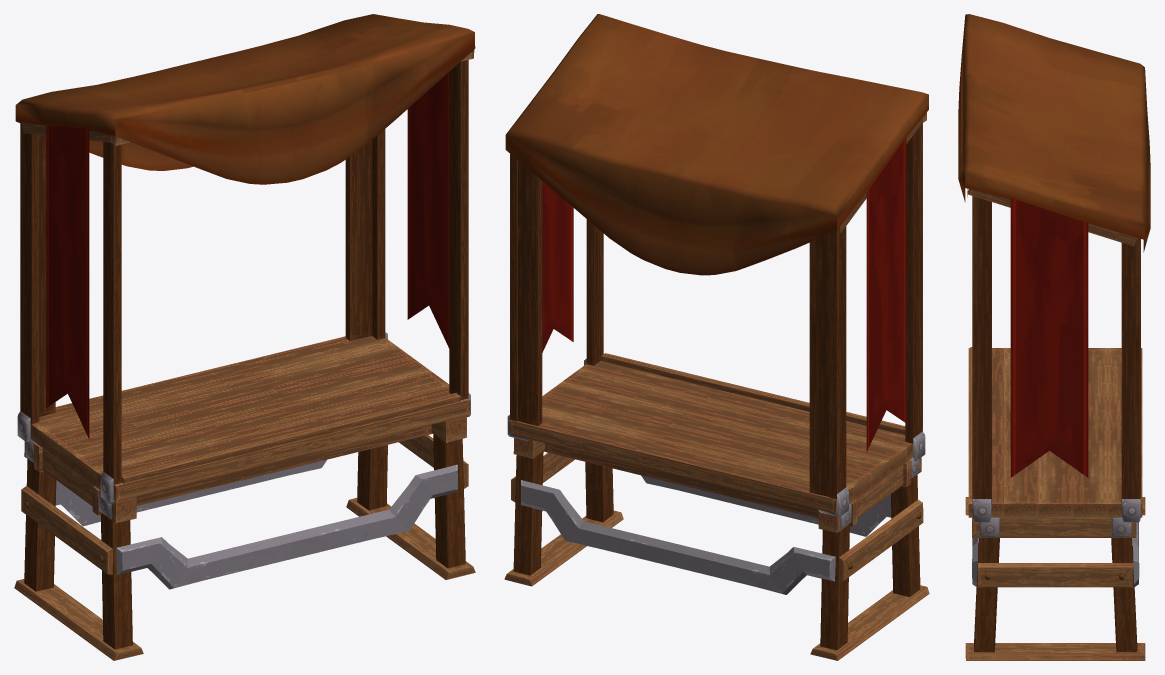
Rendered from Stall_Empty.gltf.
3 views of the same model, side by side, from view 1: azimuth 30°, elevation 25°; view 2: azimuth 150°, elevation 25°; view 3: azimuth 270°, elevation 25° (orthographic). The views are drawn at different scales.
Visible parts, largest first — view 1: Stall_Empty; view 2: Stall_Empty; view 3: Stall_Empty.
Part boxes in pixels (x1,y1,x2,y2): Stall_Empty: [14, 14, 475, 660]; Stall_Empty: [504, 14, 929, 660]; Stall_Empty: [958, 14, 1150, 660].
Bounding box in the file's own units: 1.84 × 2.63 × 0.9323.
3 materials, 3 textured.
